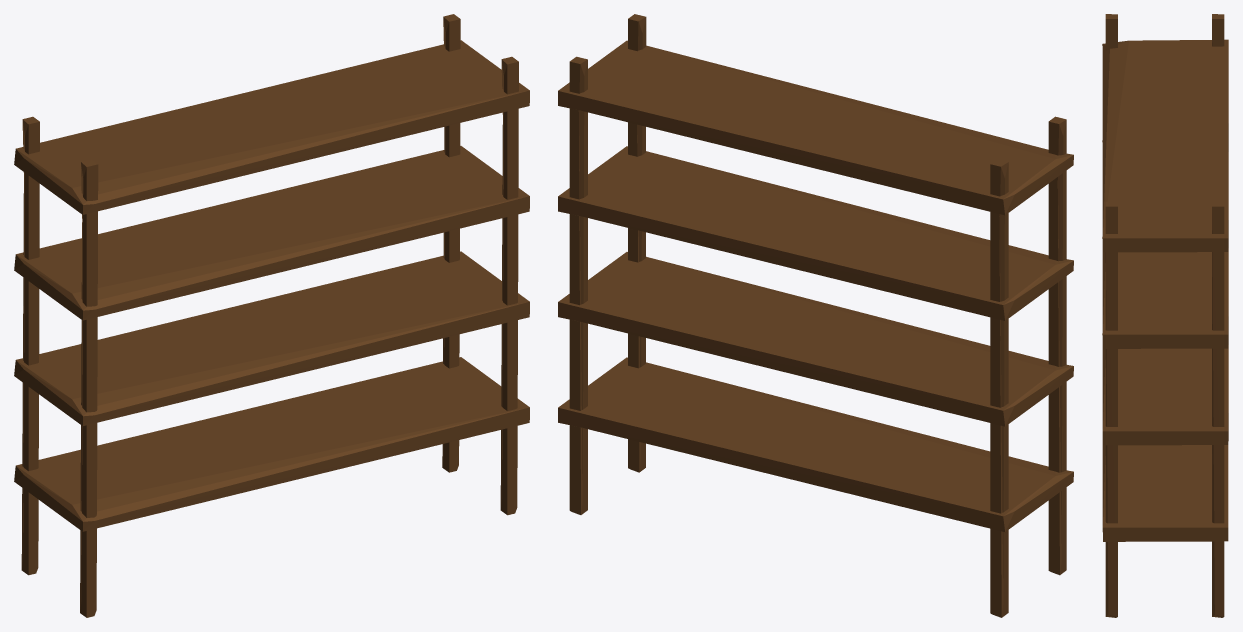
File: SM_shelf_01.fbx
3 renders of one model, left to right at view 1: azimuth 30°, elevation 25°; view 2: azimuth 150°, elevation 25°; view 3: azimuth 270°, elevation 25°, orthographic. The views are drawn at different scales.
Parts seen in each view (by area): view 1: Object382; view 2: Object382; view 3: Object382.
Part boxes in pixels (x1,y1,x2,y2): Object382: (14, 14, 529, 617); Object382: (558, 14, 1073, 617); Object382: (1102, 14, 1228, 617).
Size of the model in its own units: 92.23 by 88.9 by 24.67.
